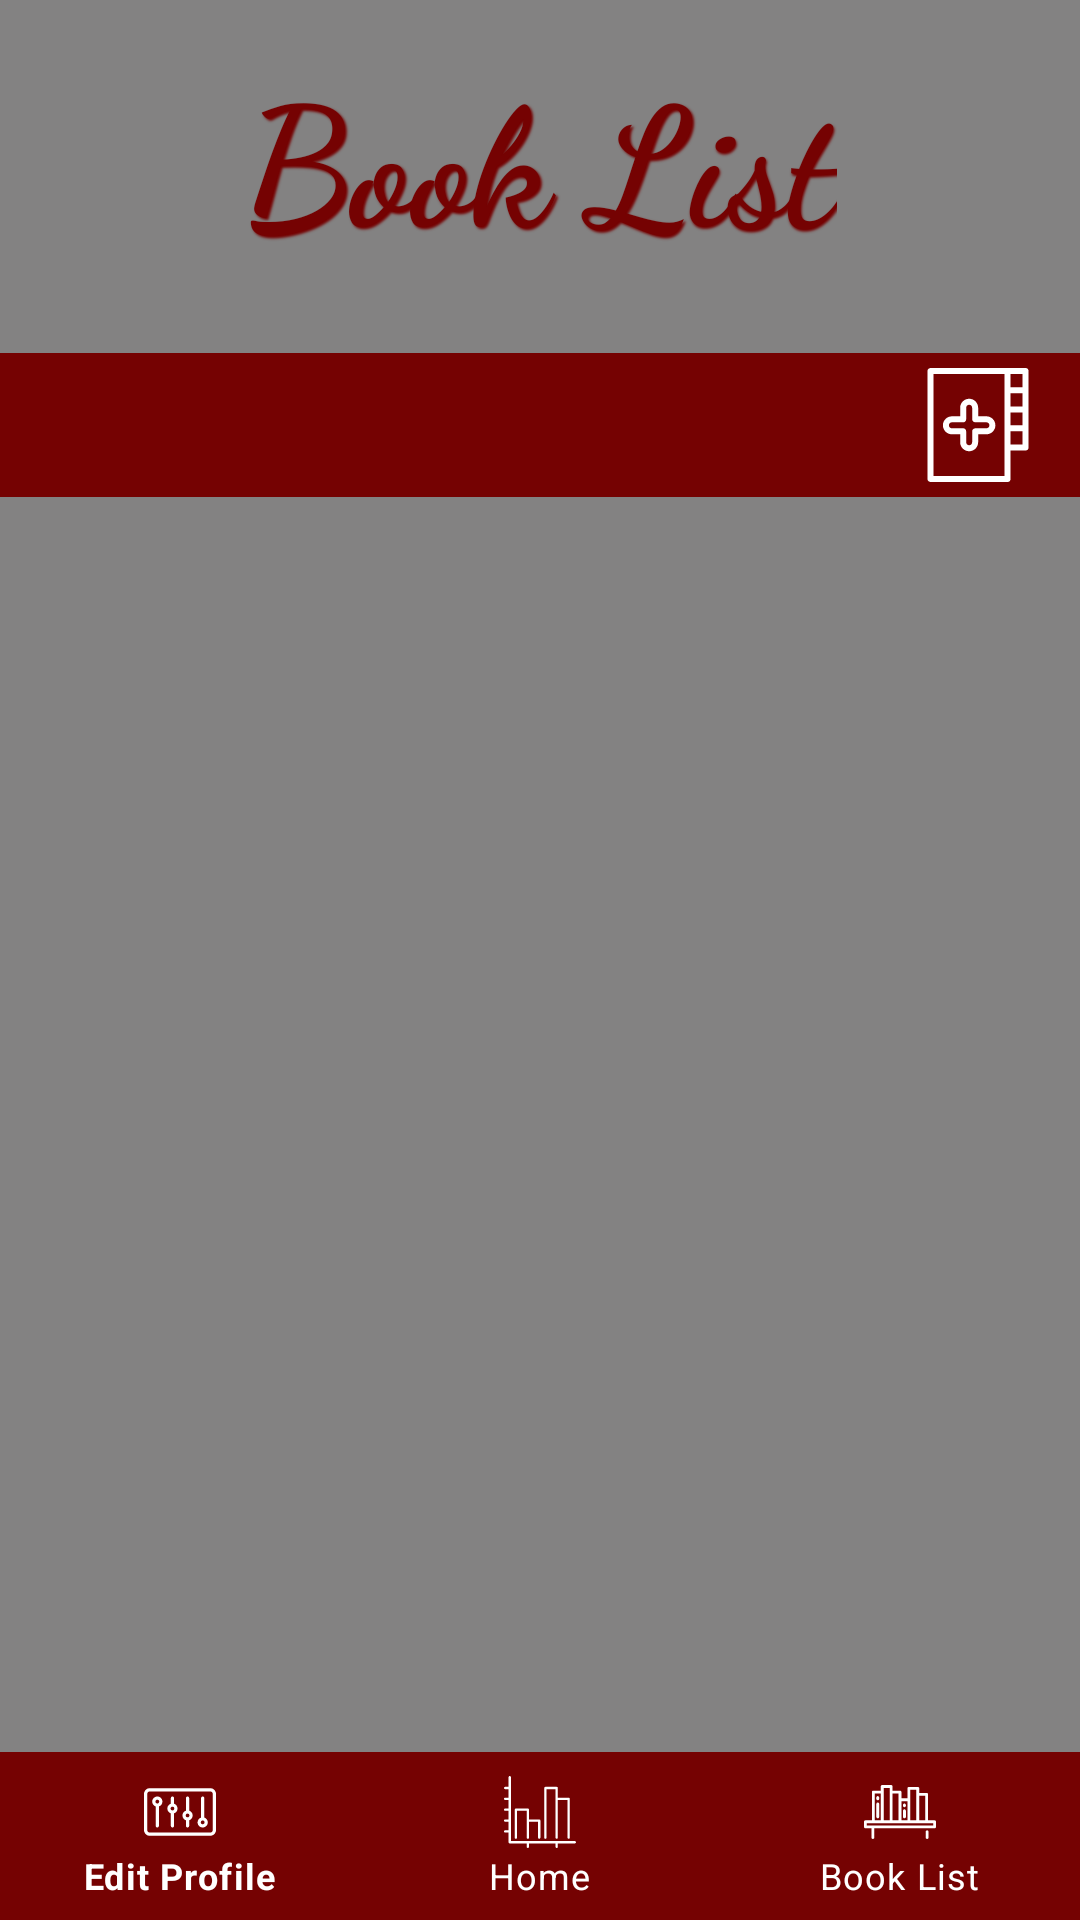

Icons on this 1080 x 1920 Android screen, each with the point to tap as (x=x, y=y):
Press to add a book to the RecyclerView: (x=978, y=425)
